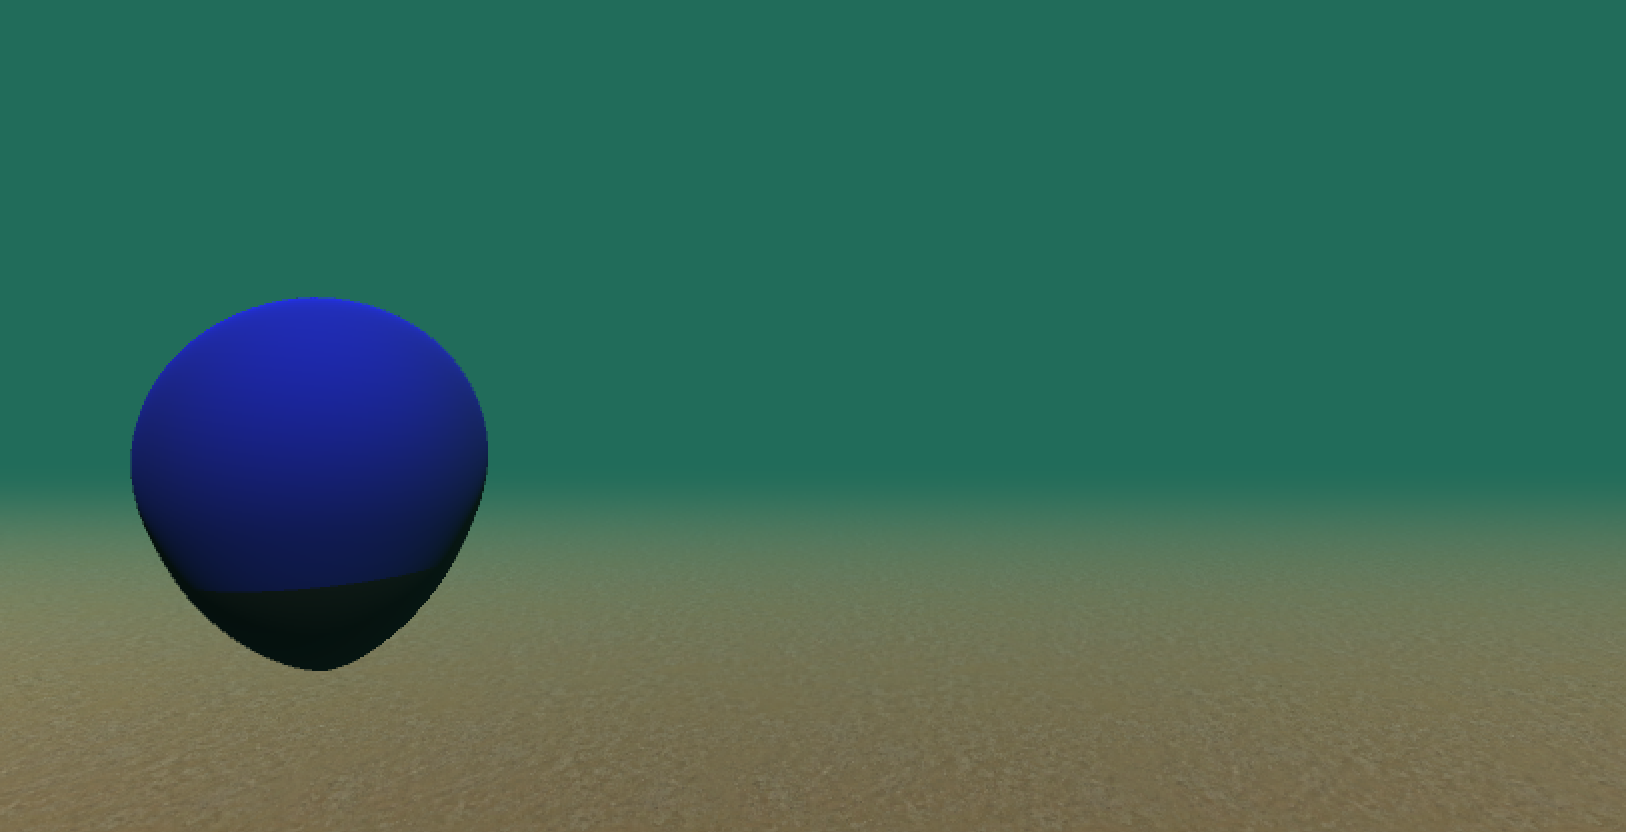blue buoy: (124, 292, 495, 677)
